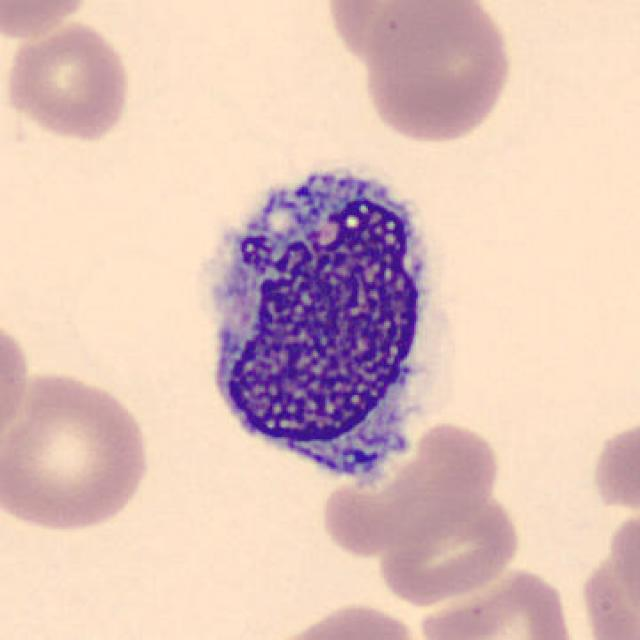Monocyte: (183, 148, 459, 506)
RBC: (313, 412, 503, 560), (2, 367, 156, 536), (361, 2, 517, 146), (374, 485, 524, 608), (0, 16, 137, 144), (414, 562, 580, 640), (323, 0, 471, 72), (259, 599, 426, 640), (595, 504, 640, 636), (0, 312, 32, 460), (0, 0, 92, 44)
